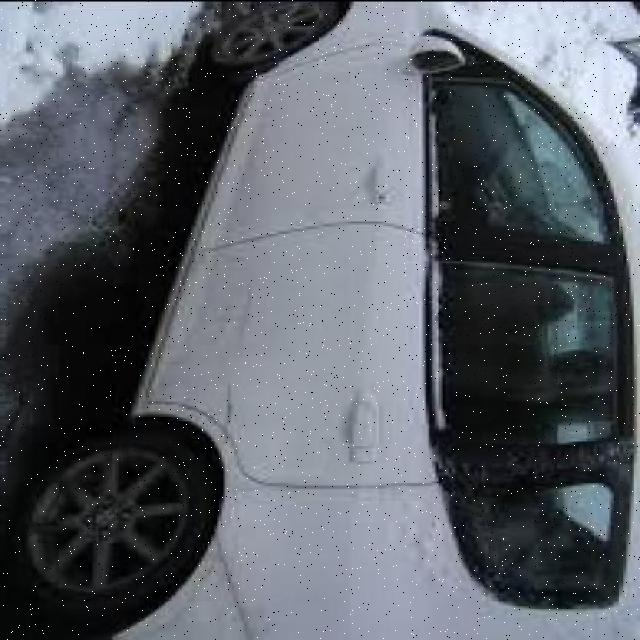damage: (218, 275, 257, 451)
